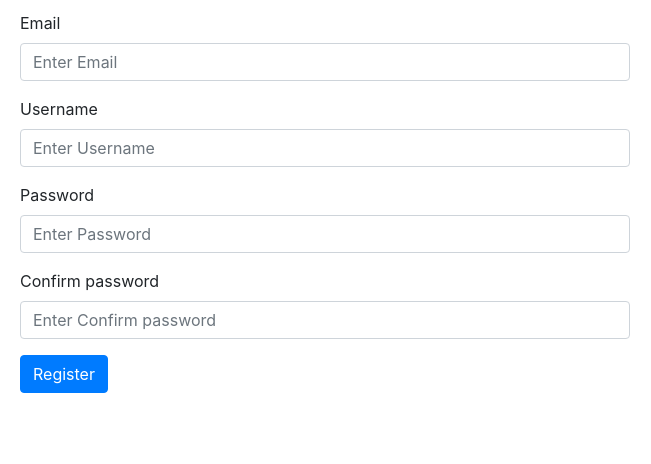
Test case: Register component › Register attemp › Should not register if password2 does not match password
This screenshot has width=651, height=464.
In the field labelled "Email": [325, 62] box [20,43,630,81], type "user1@gmail.com"
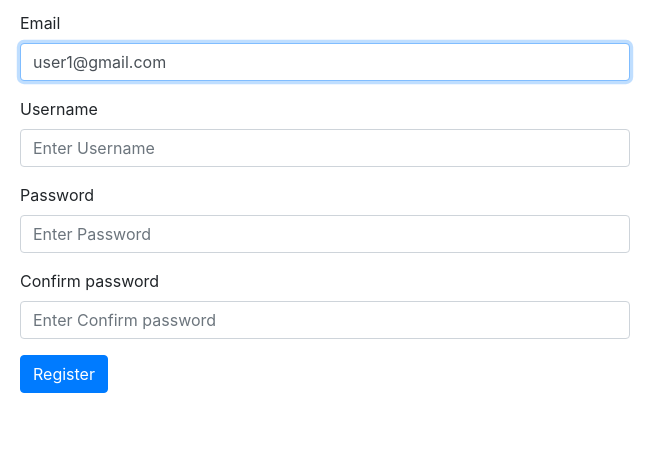
In the field labelled "Username": [325, 148] box [20,129,630,167], type "user1"
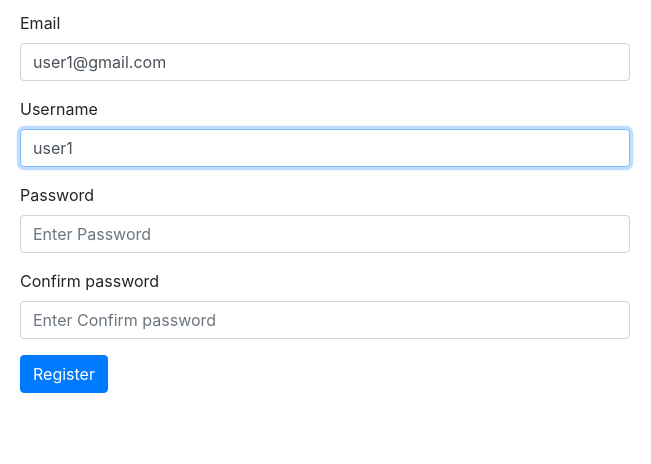
In the password field labelled "Password": [325, 234] box [20,215,630,253], type "123123"
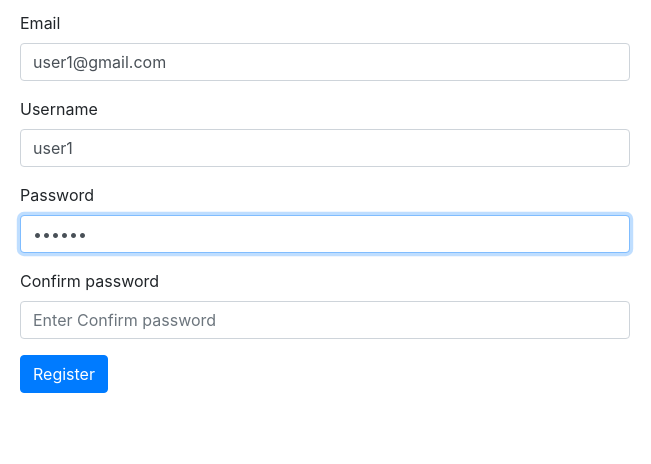
In the password field labelled "Confirm password": [325, 320] box [20,301,630,339], type "123123123"
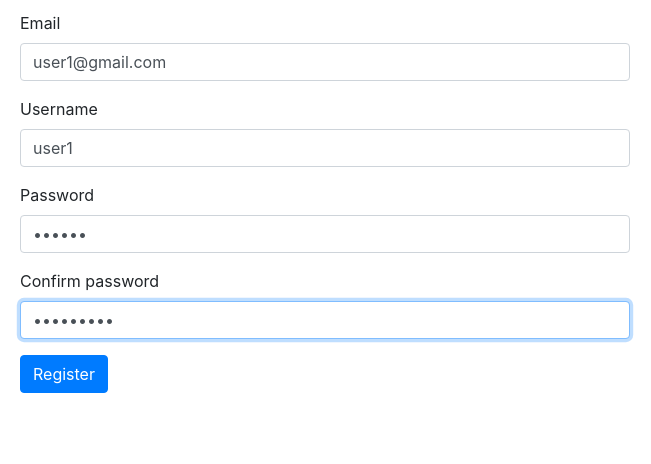
Click the button "Register": [64, 374] box [20,355,108,393]
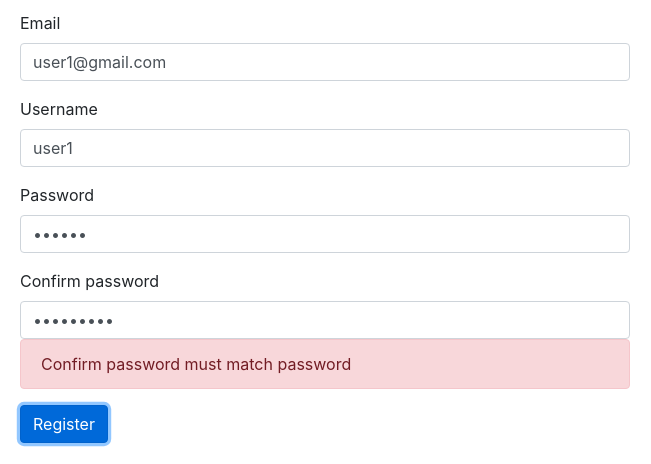
Expected: the message "Confirm password must match password" is shown, [20,339,630,389]
